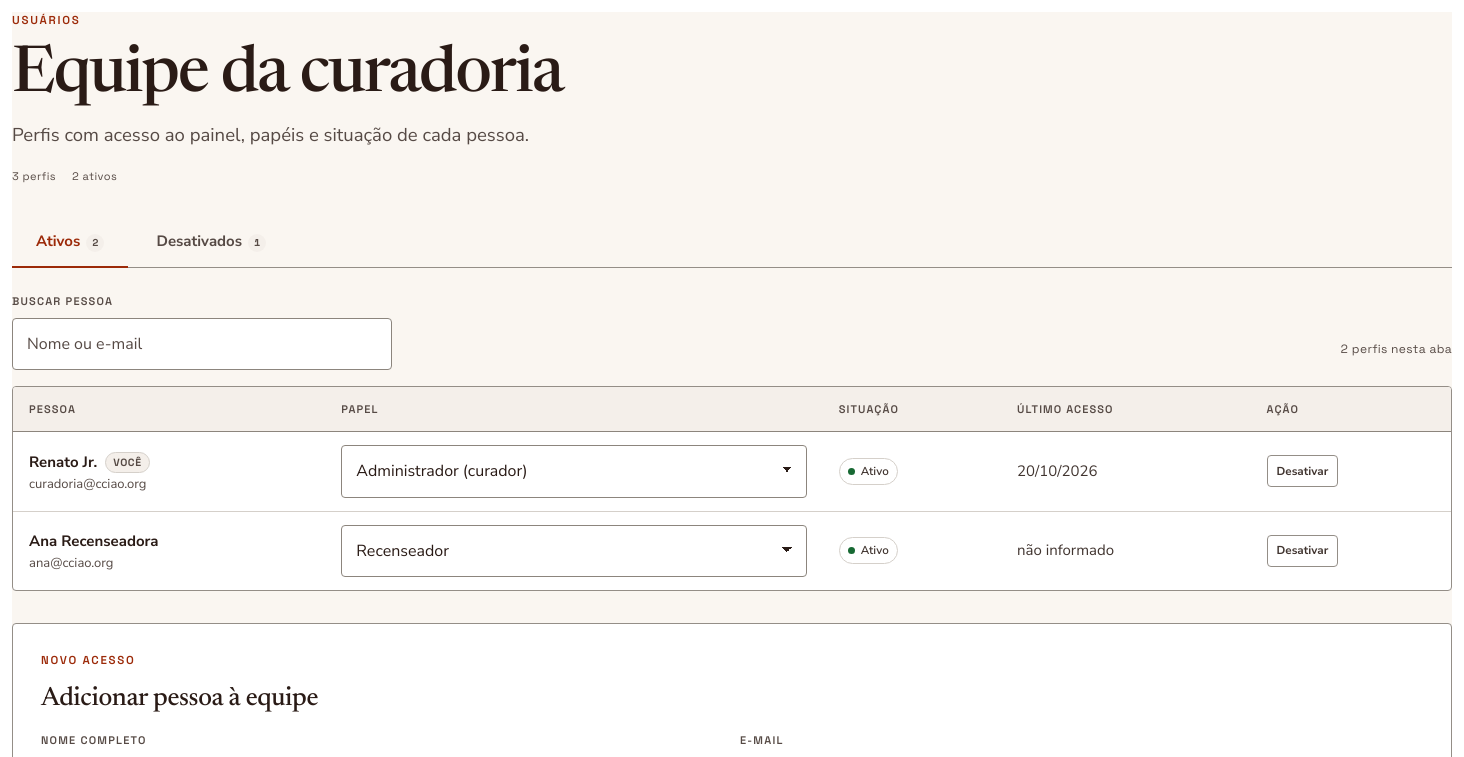
Test: AdminUsers › alterna para a aba de desativados
The image size is (1464, 757).
Expected: the text "Renato Jr." is shown, [29,452,97,472]
Click the tab "Desativados 1": (211,242) [132,217,290,268]
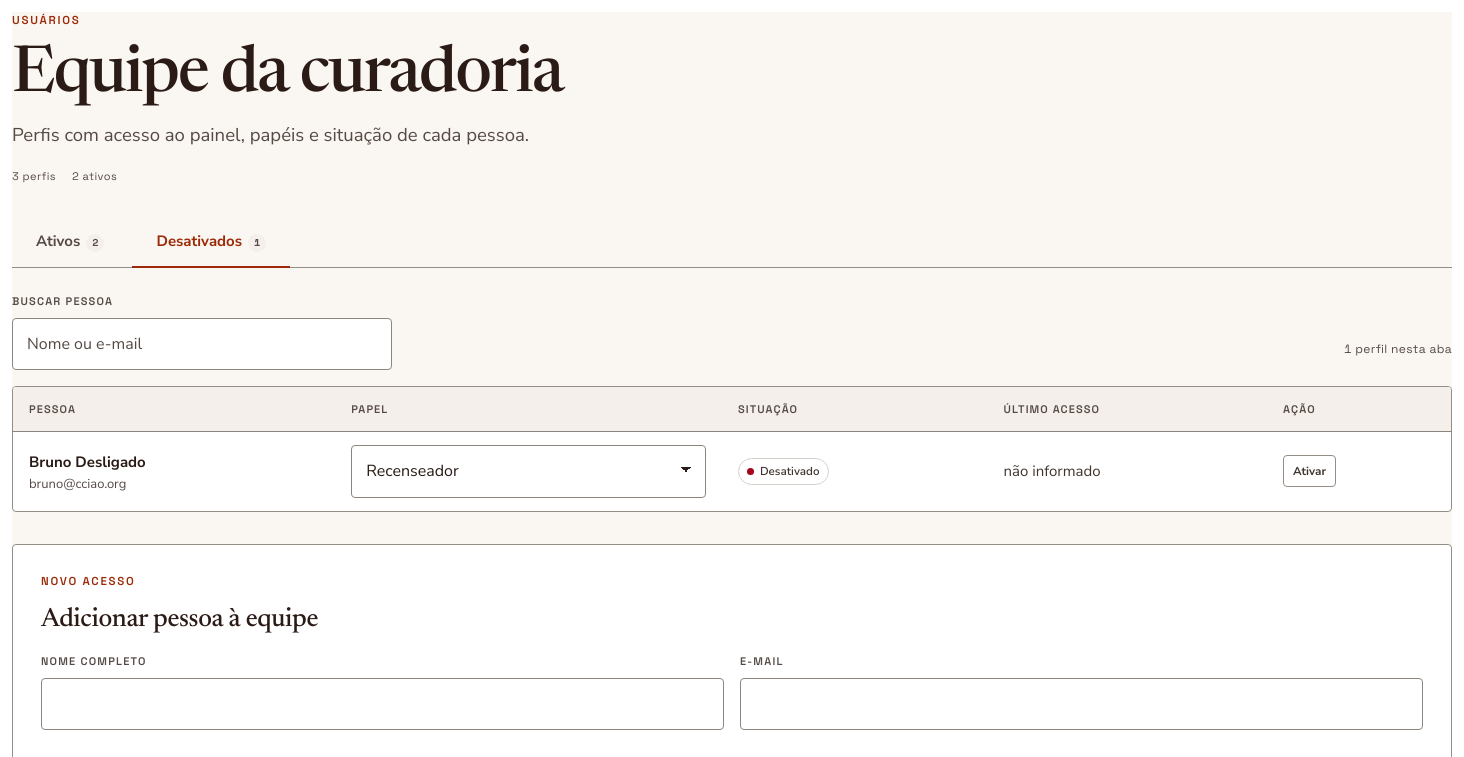
Now the text "Bruno Desligado" is shown, box [29,452,146,472]
Now the text "Renato Jr." is gone
Now the text "Desativado" is shown, box [738,458,829,485]
